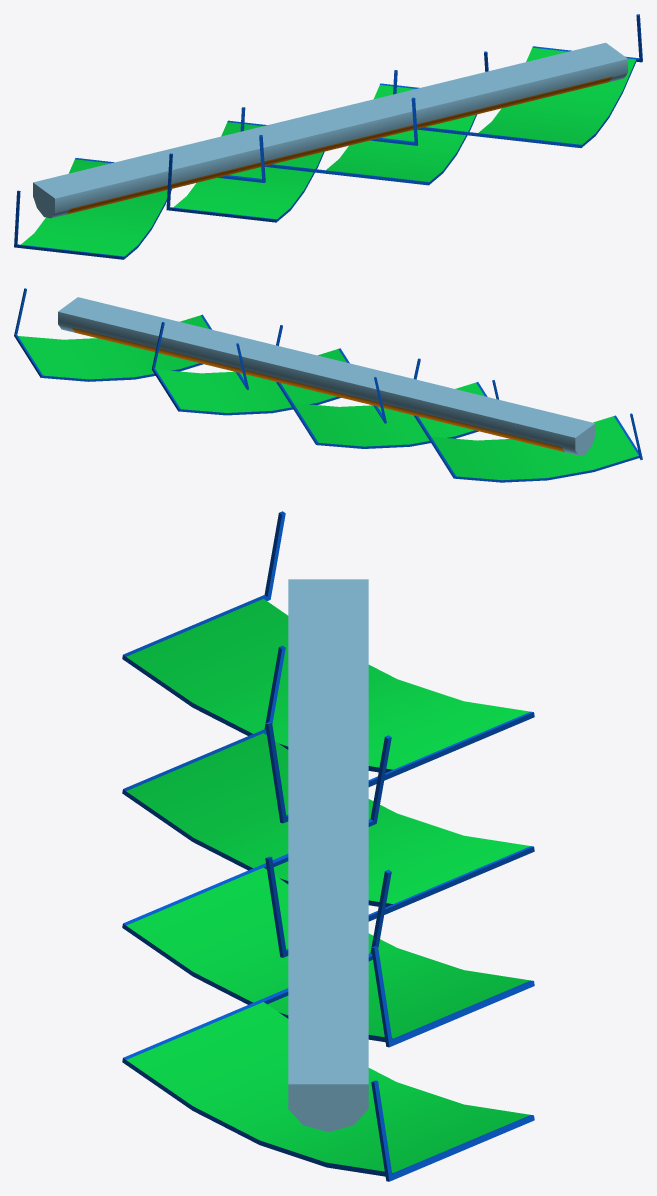
Rendered from Light_B_01.fbx.
3 renders of one model, top to bottom at view 1: azimuth 30°, elevation 25°; view 2: azimuth 150°, elevation 25°; view 3: azimuth 270°, elevation 25°, orthographic. The views are drawn at different scales.
Visible parts, largest first — view 1: Light_B_01; view 2: Light_B_01; view 3: Light_B_01.
Part boxes in pixels (x1=…): Light_B_01: x1=14, y1=14, x2=642, y2=259; Light_B_01: x1=14, y1=288, x2=642, y2=482; Light_B_01: x1=122, y1=511, x2=534, y2=1181.
Bounding box in the file's own units: 522 × 49 × 156.
